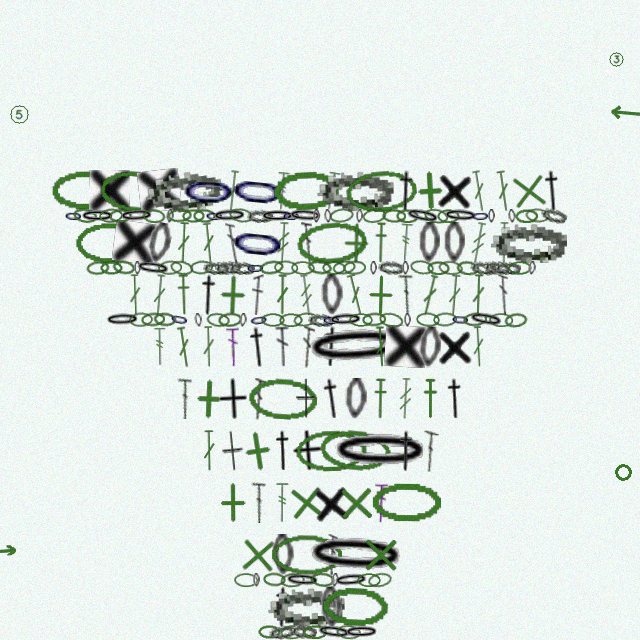chain: (303, 323, 408, 370), (304, 532, 408, 578), (329, 430, 432, 472), (144, 166, 224, 216), (318, 427, 393, 474), (295, 219, 368, 266), (344, 168, 418, 214), (268, 585, 345, 629), (98, 168, 171, 214), (317, 169, 394, 212), (247, 376, 318, 421), (295, 429, 368, 472), (491, 222, 567, 263), (321, 585, 390, 629), (272, 169, 341, 213), (271, 534, 342, 576), (371, 482, 441, 523), (75, 222, 145, 263), (51, 170, 120, 211), (228, 220, 288, 266), (228, 168, 288, 214), (180, 170, 238, 212), (145, 221, 174, 265), (418, 326, 442, 368), (320, 586, 343, 628), (272, 534, 294, 575), (345, 378, 367, 419), (321, 274, 343, 315), (419, 222, 440, 263), (444, 222, 465, 263), (404, 206, 441, 226), (468, 310, 504, 329), (135, 259, 171, 277), (316, 623, 352, 640), (333, 572, 369, 588), (285, 572, 320, 588), (540, 206, 568, 225), (105, 312, 140, 327), (328, 312, 363, 327), (119, 208, 154, 223), (212, 208, 247, 223), (288, 208, 323, 223), (443, 208, 478, 223), (344, 625, 379, 639), (80, 209, 115, 223), (260, 209, 295, 223), (268, 623, 296, 640), (367, 571, 393, 589), (378, 311, 404, 329), (423, 207, 449, 225), (169, 259, 194, 277), (409, 259, 435, 276), (72, 207, 98, 224), (228, 207, 254, 224), (470, 260, 497, 276), (293, 311, 318, 328), (259, 259, 284, 276), (307, 259, 332, 276), (329, 207, 354, 224), (362, 207, 387, 224), (112, 259, 136, 276), (332, 259, 356, 276), (280, 624, 305, 640), (336, 624, 361, 640), (280, 572, 305, 588), (438, 260, 463, 276), (291, 624, 317, 639), (215, 260, 241, 275), (378, 260, 404, 275), (484, 260, 510, 275), (206, 312, 230, 328), (504, 312, 528, 328), (86, 260, 110, 276), (456, 260, 480, 276), (142, 208, 166, 224), (310, 572, 335, 587), (167, 208, 192, 223), (525, 208, 550, 223), (308, 313, 334, 327), (203, 261, 229, 275), (229, 261, 255, 275), (495, 261, 521, 275), (247, 209, 273, 223), (129, 312, 153, 327), (141, 312, 165, 327), (153, 312, 177, 327), (218, 312, 242, 327), (362, 312, 386, 327), (416, 312, 440, 327), (433, 312, 457, 327), (463, 312, 487, 327), (158, 260, 182, 275), (274, 260, 298, 275), (99, 208, 123, 223), (169, 311, 190, 328), (263, 572, 286, 587), (190, 260, 213, 275), (343, 260, 366, 275), (303, 625, 327, 639), (234, 573, 258, 587), (357, 573, 381, 587), (261, 313, 285, 327), (279, 313, 303, 327), (349, 313, 373, 327), (489, 313, 513, 327), (291, 261, 315, 275), (322, 261, 346, 275), (508, 261, 532, 275), (382, 209, 406, 223), (258, 625, 281, 639), (100, 261, 123, 275), (427, 261, 450, 275), (109, 209, 132, 223), (182, 209, 205, 223), (193, 209, 216, 223), (396, 209, 419, 223), (437, 209, 460, 223), (515, 209, 538, 223), (249, 312, 269, 328), (451, 312, 470, 327), (322, 313, 341, 327), (246, 261, 265, 275), (64, 209, 83, 223), (205, 209, 224, 223), (282, 209, 301, 223), (471, 209, 490, 223), (194, 313, 203, 327), (331, 573, 339, 587), (239, 313, 247, 327), (528, 261, 536, 275), (166, 209, 174, 223), (324, 209, 332, 223), (508, 209, 516, 223), (253, 573, 260, 587), (404, 313, 411, 327), (134, 261, 141, 275), (370, 261, 377, 275), (402, 261, 409, 275), (313, 209, 320, 223), (356, 209, 363, 223), (488, 209, 495, 223)
double: (344, 273, 367, 316), (419, 274, 441, 316), (174, 326, 194, 368), (469, 170, 489, 212), (494, 170, 513, 212), (421, 430, 439, 472), (224, 170, 242, 212), (151, 274, 168, 316), (446, 274, 463, 316), (200, 222, 217, 264), (250, 378, 266, 420), (299, 326, 315, 368), (250, 482, 266, 523), (176, 378, 192, 419), (275, 326, 291, 367), (373, 326, 389, 367), (225, 222, 240, 264), (201, 326, 216, 367), (471, 326, 486, 367), (398, 274, 413, 315), (471, 274, 486, 315), (176, 222, 191, 263), (374, 482, 388, 523), (202, 430, 216, 471), (226, 326, 240, 367), (128, 274, 142, 315), (251, 274, 264, 315), (276, 274, 289, 315), (326, 534, 338, 575), (301, 222, 313, 263), (498, 274, 509, 315)
half_double: (318, 377, 346, 420), (318, 325, 345, 368), (269, 586, 296, 628), (195, 274, 222, 316), (393, 430, 419, 472), (245, 326, 271, 368), (393, 170, 419, 212), (540, 170, 565, 211), (271, 430, 295, 471), (443, 378, 467, 419), (175, 274, 192, 315), (422, 378, 438, 419), (373, 222, 389, 263), (373, 378, 388, 419)
noise: (608, 104, 640, 121), (612, 461, 634, 483), (8, 103, 30, 125), (607, 50, 625, 68), (0, 545, 18, 556)
single: (235, 428, 281, 474), (506, 168, 552, 214), (284, 480, 329, 525), (112, 220, 157, 265), (137, 168, 182, 213), (236, 533, 280, 577), (384, 325, 427, 368), (408, 169, 451, 212), (311, 481, 352, 525), (335, 482, 377, 524), (188, 378, 230, 420), (212, 274, 254, 316), (360, 274, 402, 316), (335, 222, 377, 264), (435, 169, 475, 212), (360, 534, 401, 575), (212, 482, 253, 523), (89, 170, 130, 211), (436, 326, 474, 367), (290, 429, 324, 472), (216, 378, 249, 420), (221, 430, 245, 472), (296, 378, 317, 419)
treble: (468, 222, 489, 264), (322, 170, 342, 212), (297, 274, 316, 316), (274, 170, 291, 212), (275, 222, 291, 263), (398, 222, 414, 263), (275, 482, 290, 523), (398, 378, 413, 419), (153, 326, 167, 367), (497, 222, 511, 263)
